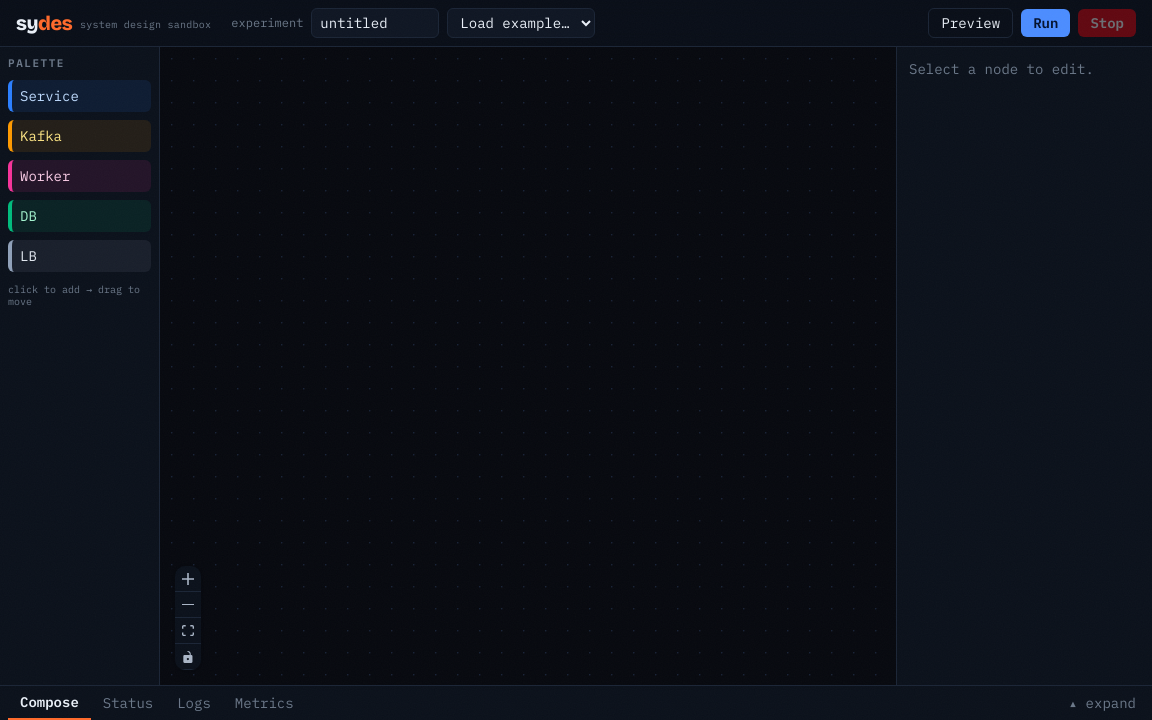
App brick 3 › shows a dismissible error banner on a compile 400
The width and height of the screenshot is (1152, 720).
Click the button "Preview" at (971, 23), box [928, 8, 1013, 38]
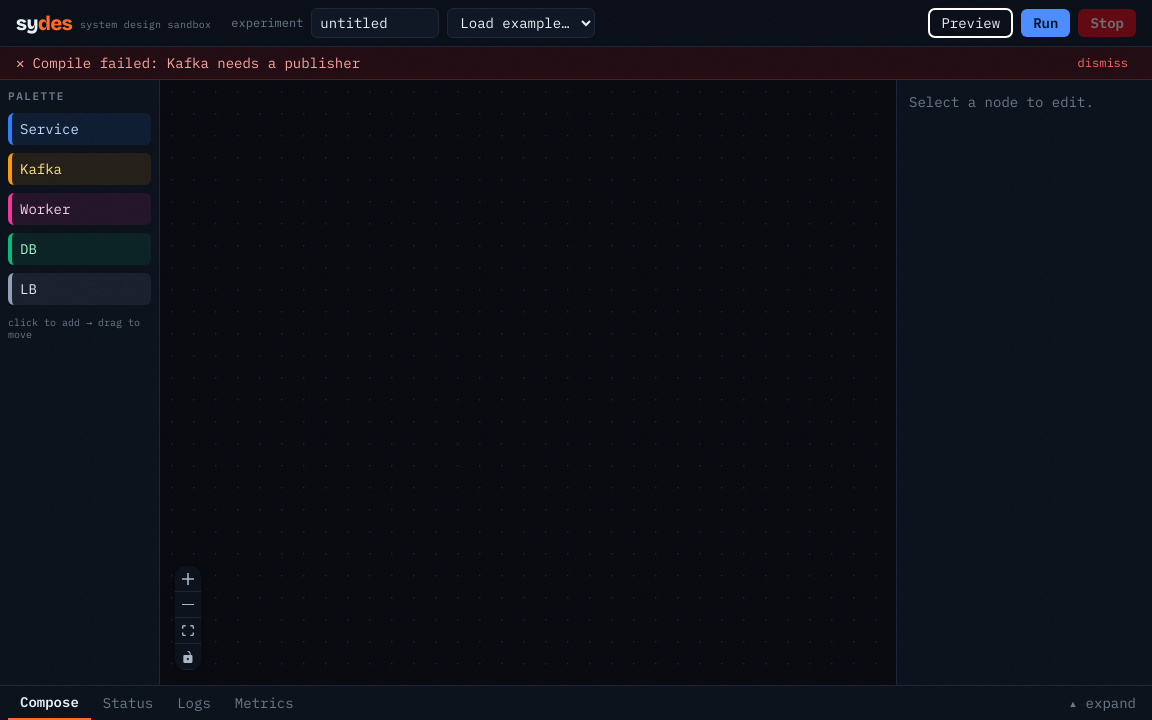
Now the text "Compile failed: Kafka needs a publisher" is shown, box [32, 54, 360, 72]
Click the button "dismiss" at (1103, 63), box [1070, 53, 1136, 73]
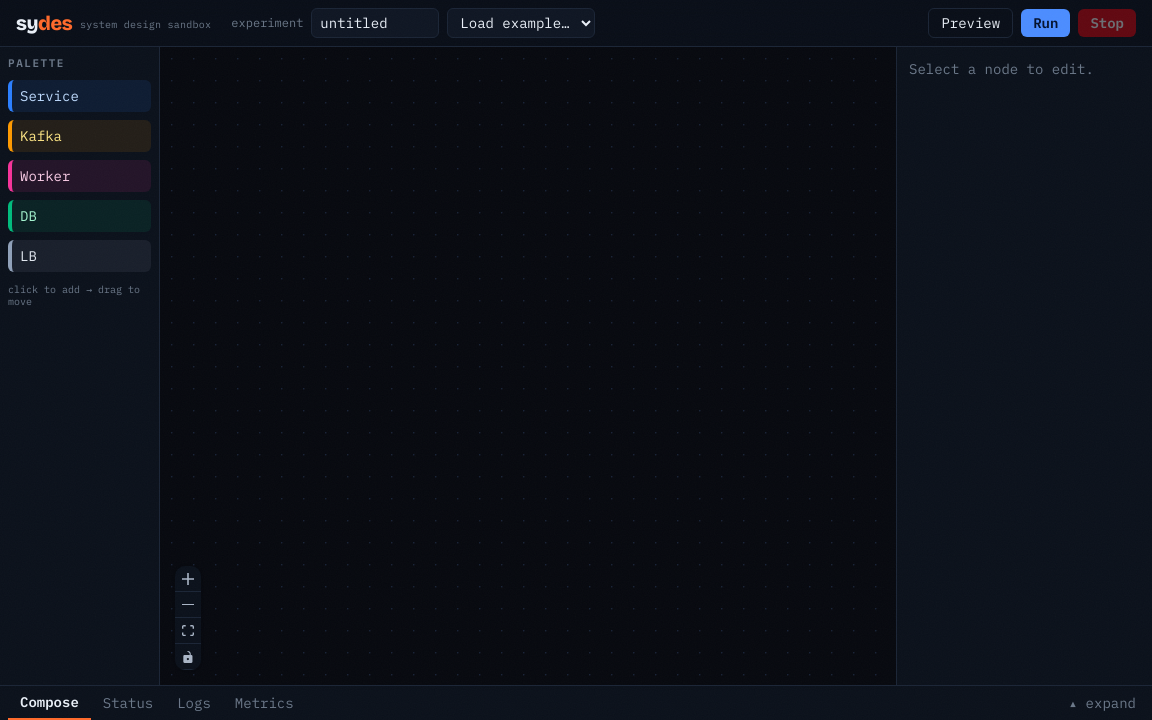
Now the text "Kafka needs a publisher" is gone
